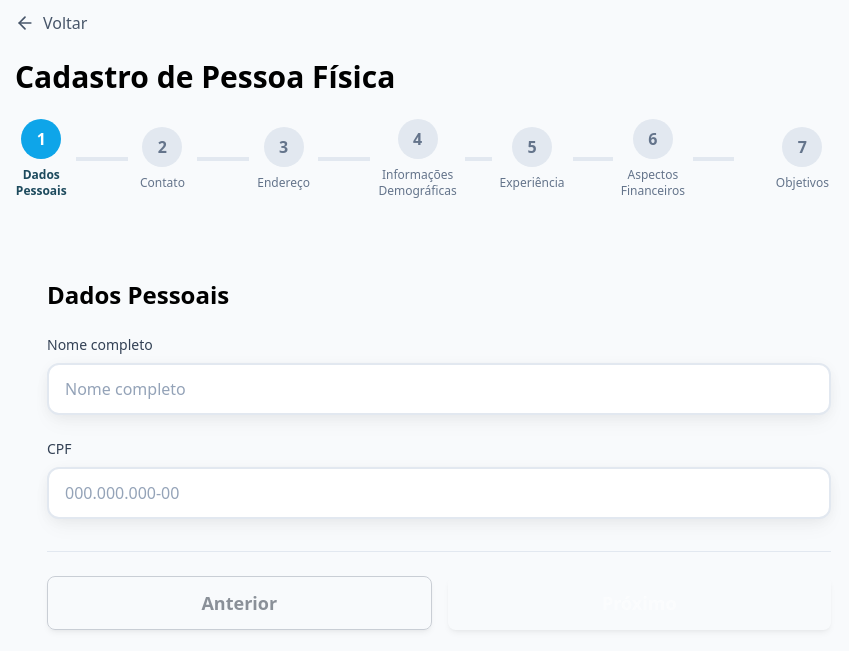
Test: PessoaFisicaPage › Form Navigation › should navigate to next step when clicking Próximo
# Fill required fields first
Type "Test User" into the field labelled "Nome completo" at (439, 389), box [47,363,831,415]
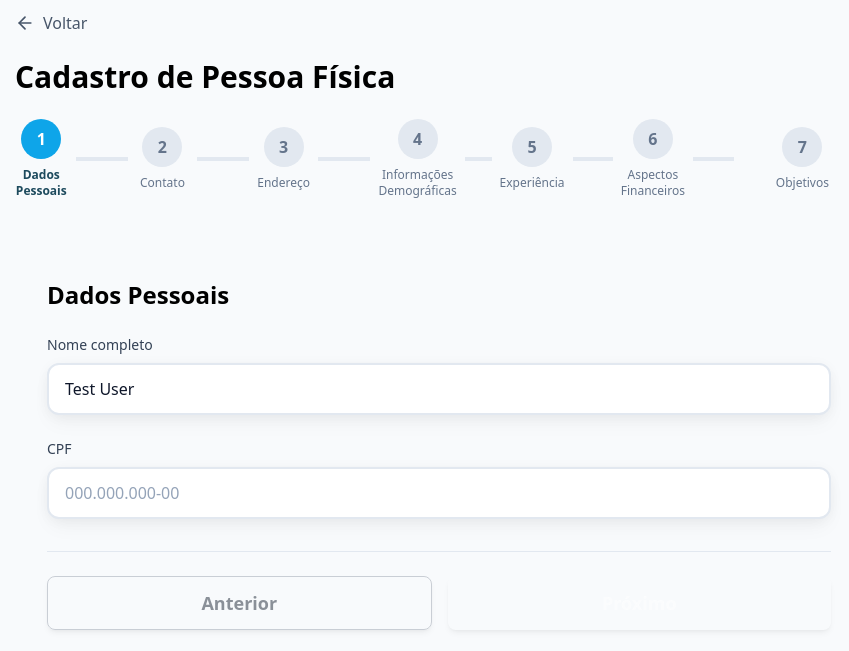
Type "12345678901" into the field labelled "CPF" at (439, 493), box [47,467,831,519]
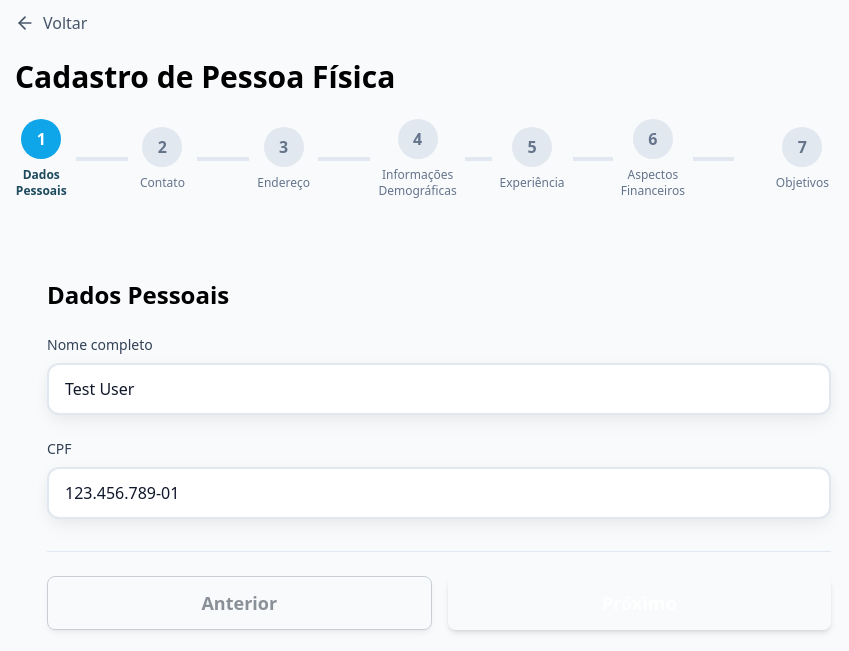
Click the button "Próximo" at (639, 603), box [448,576,831,630]
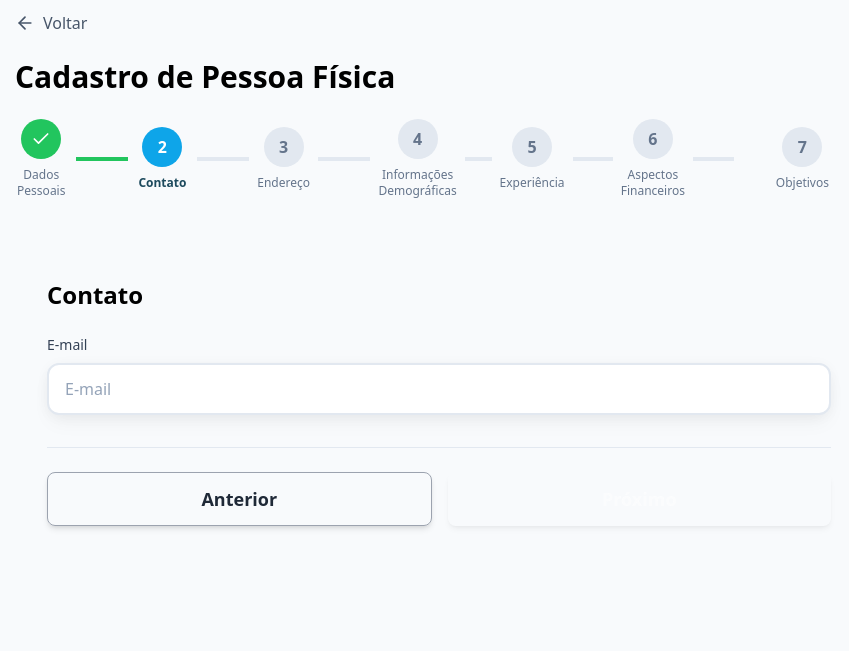
Check: the field labelled "E-mail" is shown, box [47,363,831,415]
